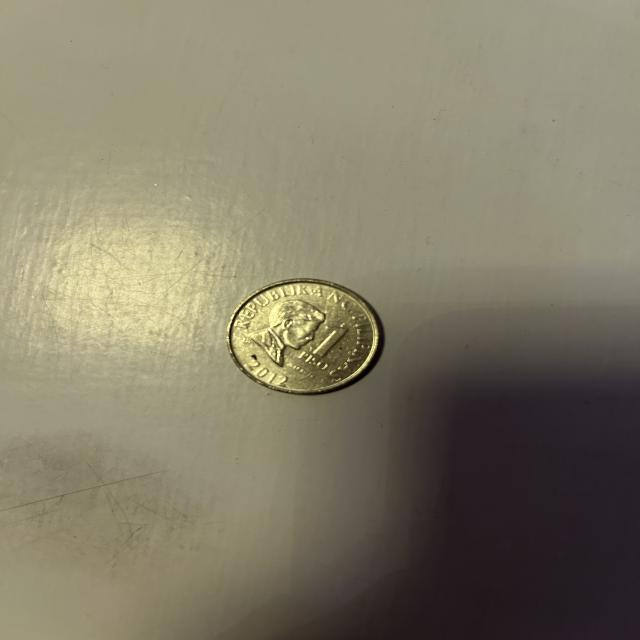1_Old_Front: (295, 320, 349, 372)
